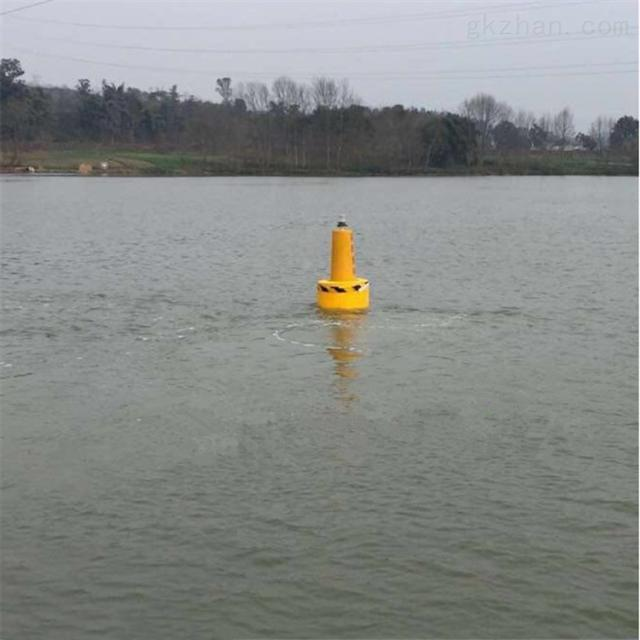buoy: (312, 213, 373, 308)
